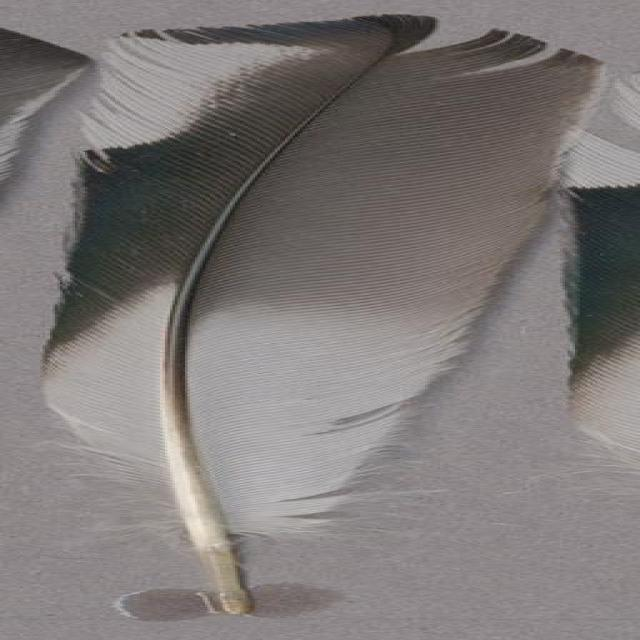feather: (35, 13, 600, 609)
